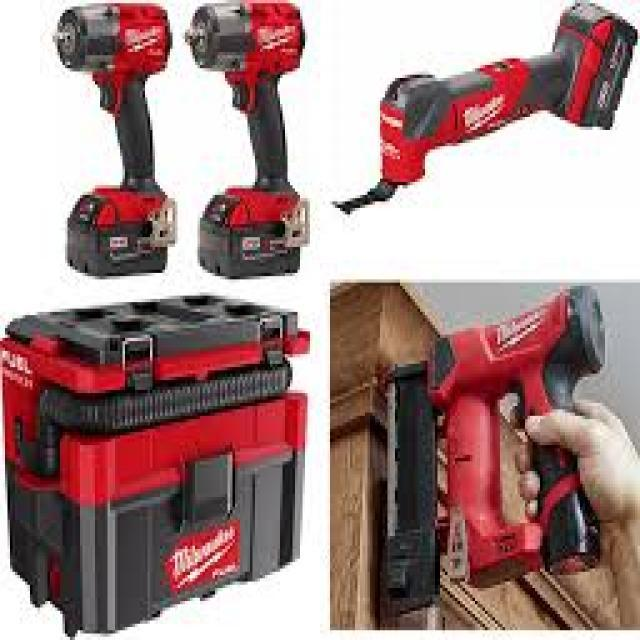drill: (180, 0, 315, 283), (48, 0, 180, 284)
